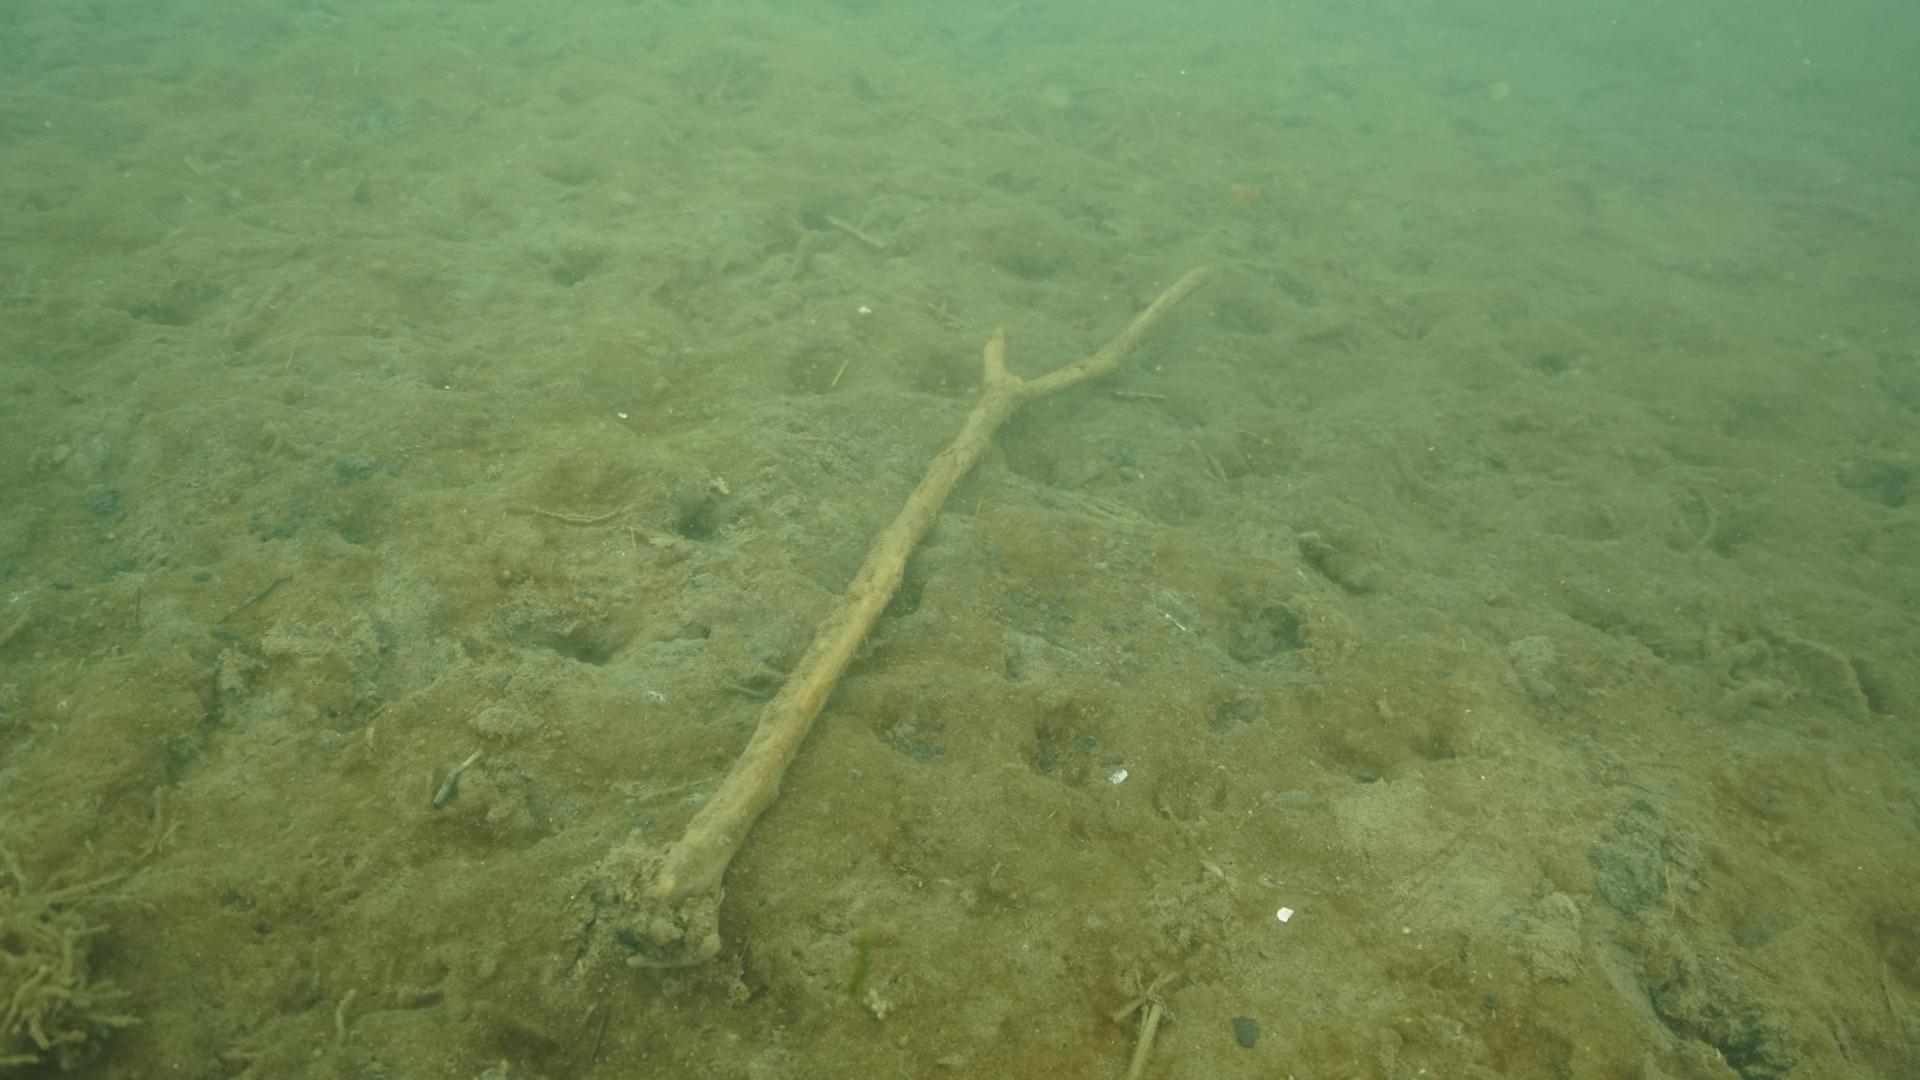wood: (626, 260, 1212, 956)
